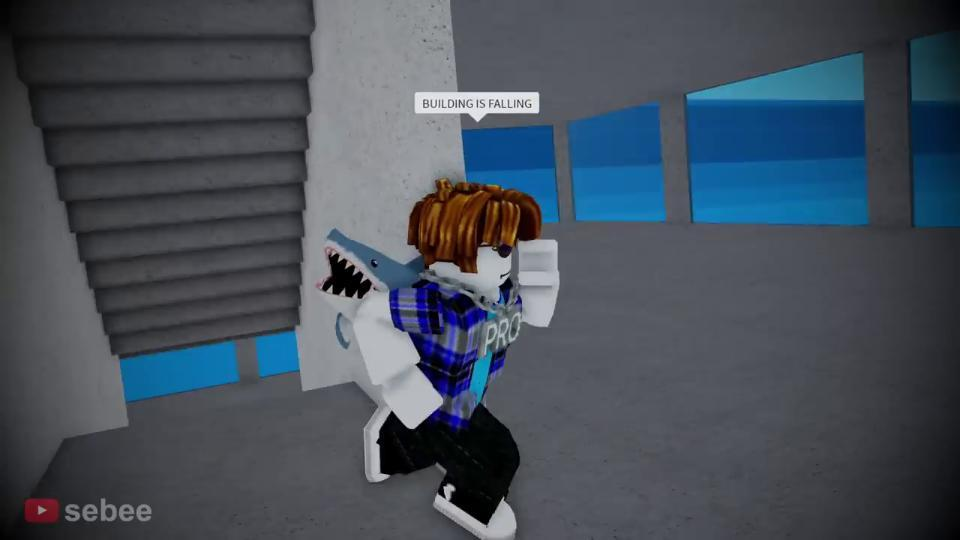Character: (353, 177, 560, 540)
